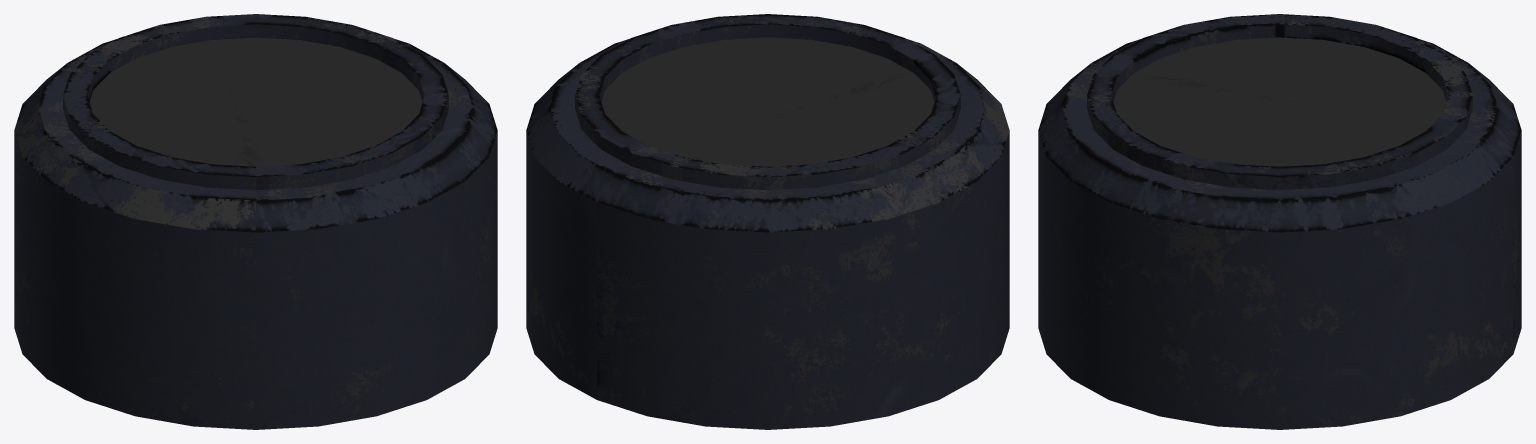
Rendered from button.gltf.
3 views of the same model, side by side, from view 1: azimuth 30°, elevation 25°; view 2: azimuth 150°, elevation 25°; view 3: azimuth 270°, elevation 25° (orthographic).
Parts seen in each view (by area): view 1: button; view 2: button; view 3: button.
Part boxes in pixels (bbox=[...]): button: bbox=[14, 14, 497, 429]; button: bbox=[526, 14, 1009, 429]; button: bbox=[1038, 14, 1521, 429].
Bounding box in the file's own units: 0.1 × 0.053 × 0.1.
1 material, 1 textured.
